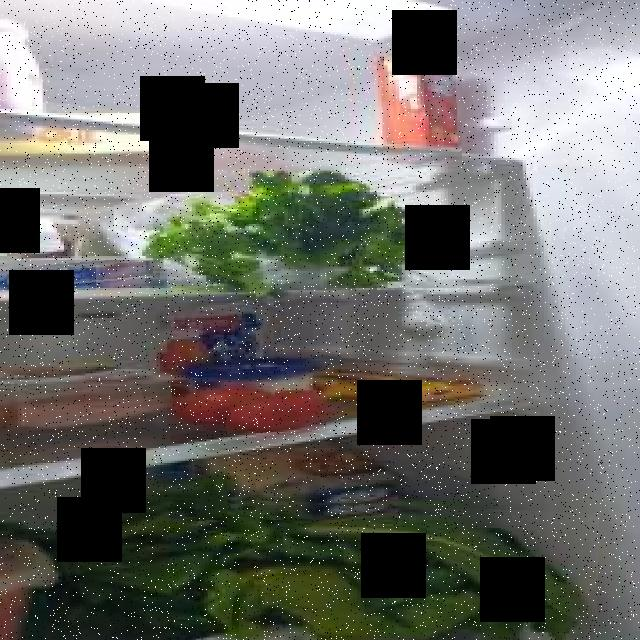cheese: (0, 260, 153, 290)
pak_choi: (55, 493, 599, 640)
tomato: (169, 382, 275, 422), (224, 393, 327, 433)
tomato_sauce: (370, 56, 462, 168)
